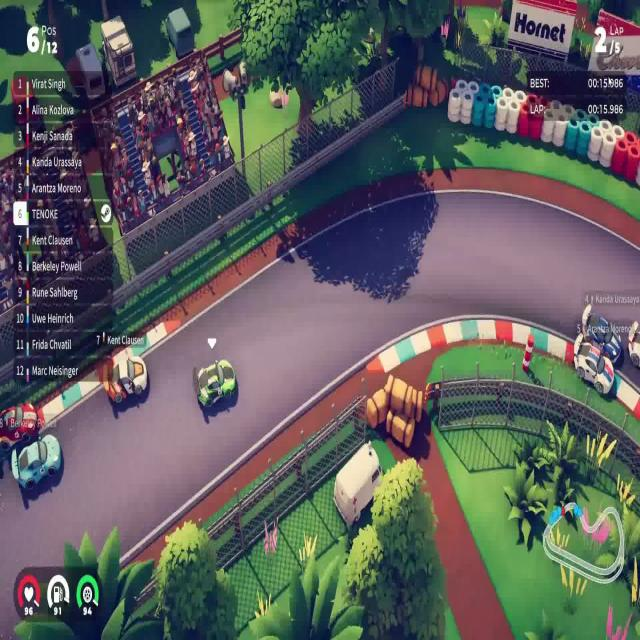car: (10, 432, 62, 492), (104, 347, 148, 406), (572, 339, 614, 397), (583, 303, 624, 358), (196, 358, 236, 410)
